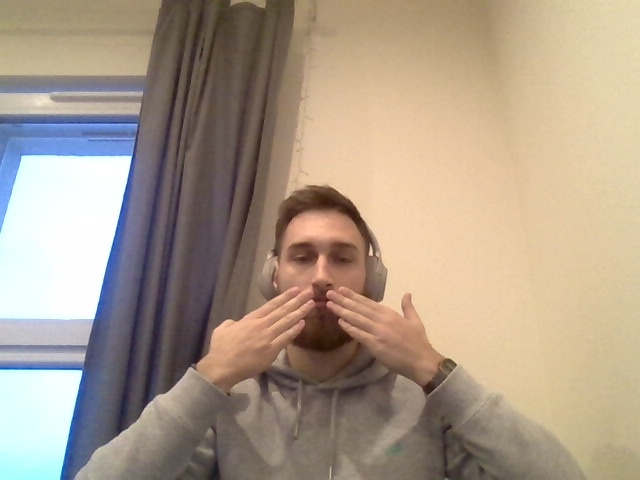ThankYou: (208, 287, 429, 384)
